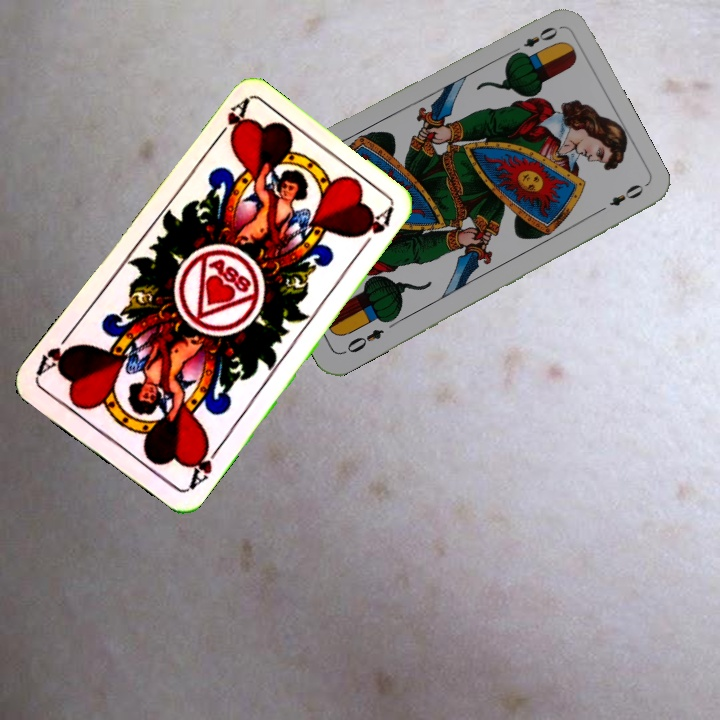EO: (507, 22, 561, 58), (339, 325, 387, 357)
HA: (183, 436, 223, 493), (208, 96, 251, 148)
